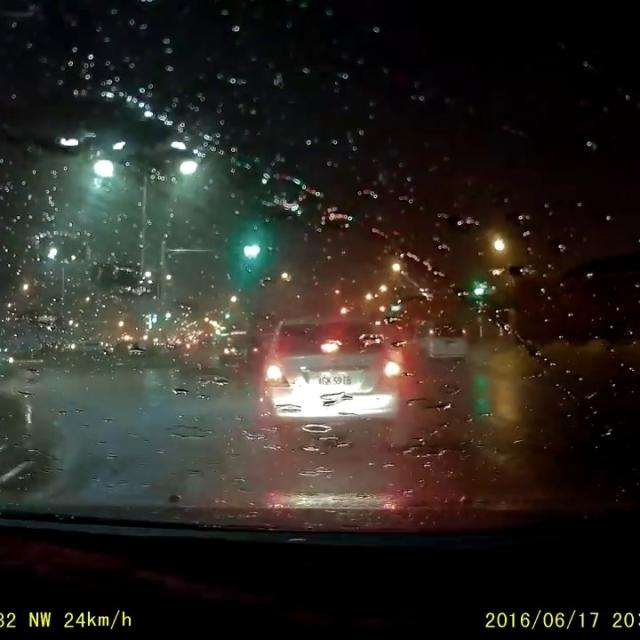Car: (256, 310, 402, 432), (411, 319, 467, 362)
